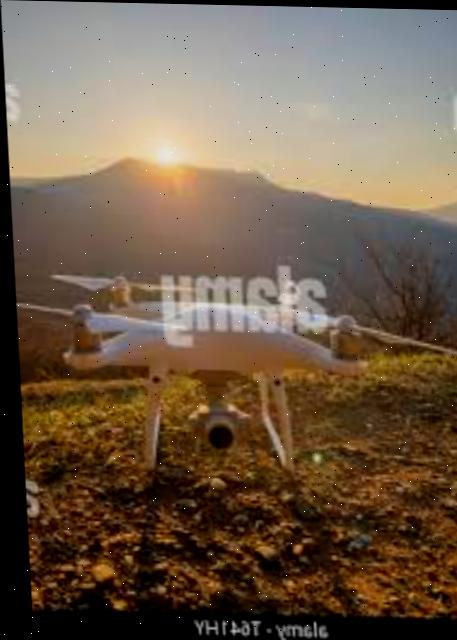drone: (11, 258, 450, 491)
